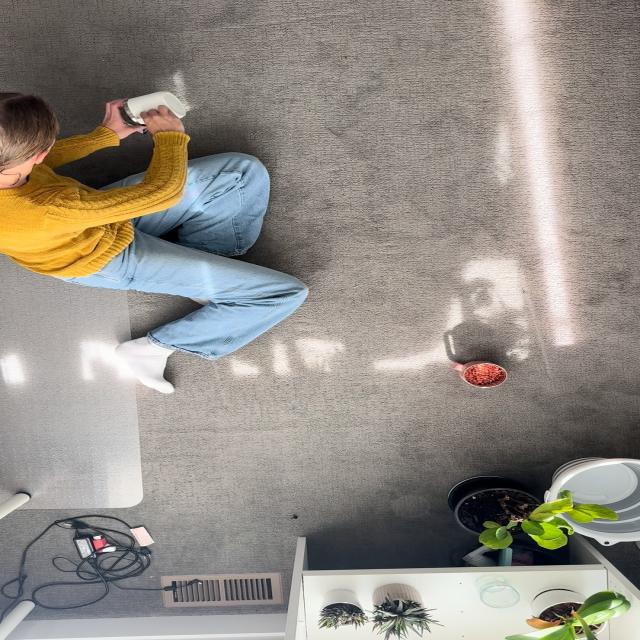IBC: (124, 91, 185, 125), (450, 360, 507, 388)
